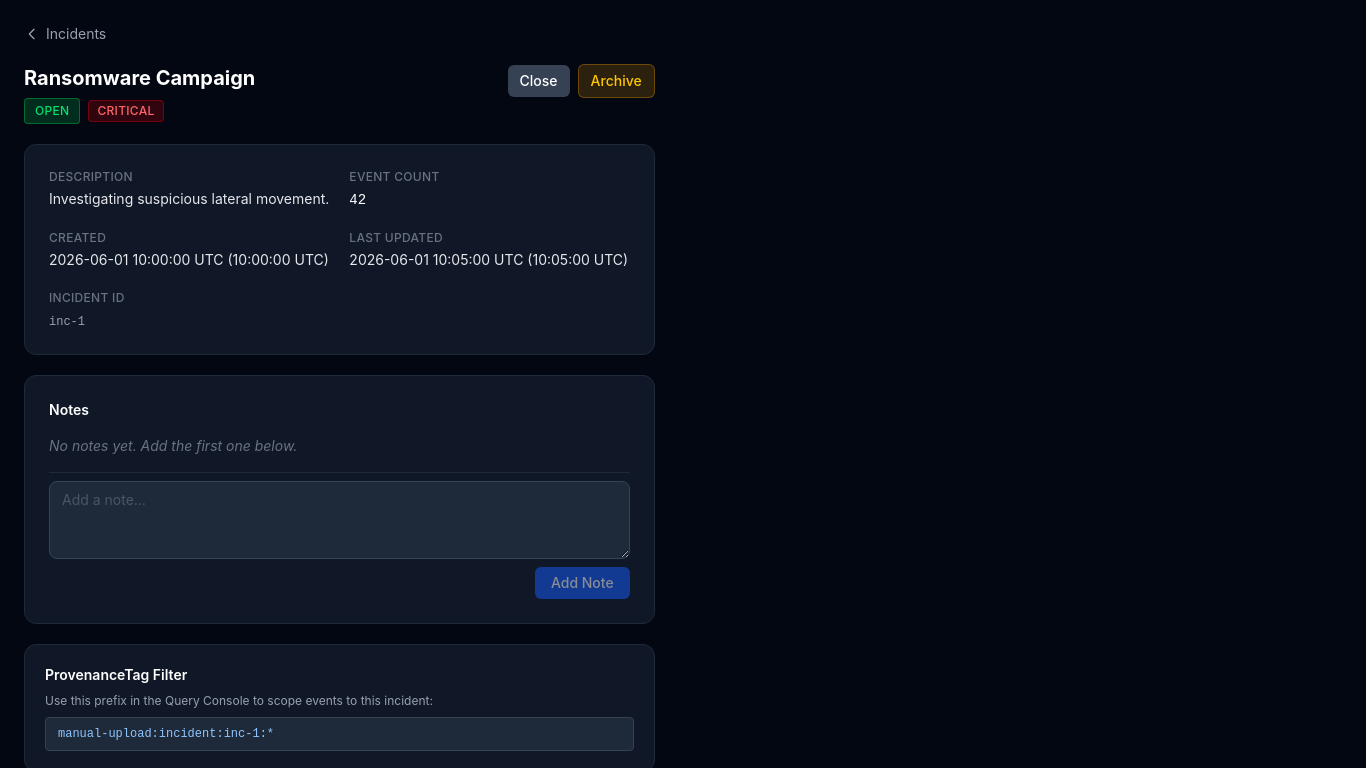
IncidentDetailPage — status confirmation + toast (FR #18) › dialog is dismissed after confirmation
Step 1. Click the button "Close" → (539, 81), box [508, 65, 570, 97]
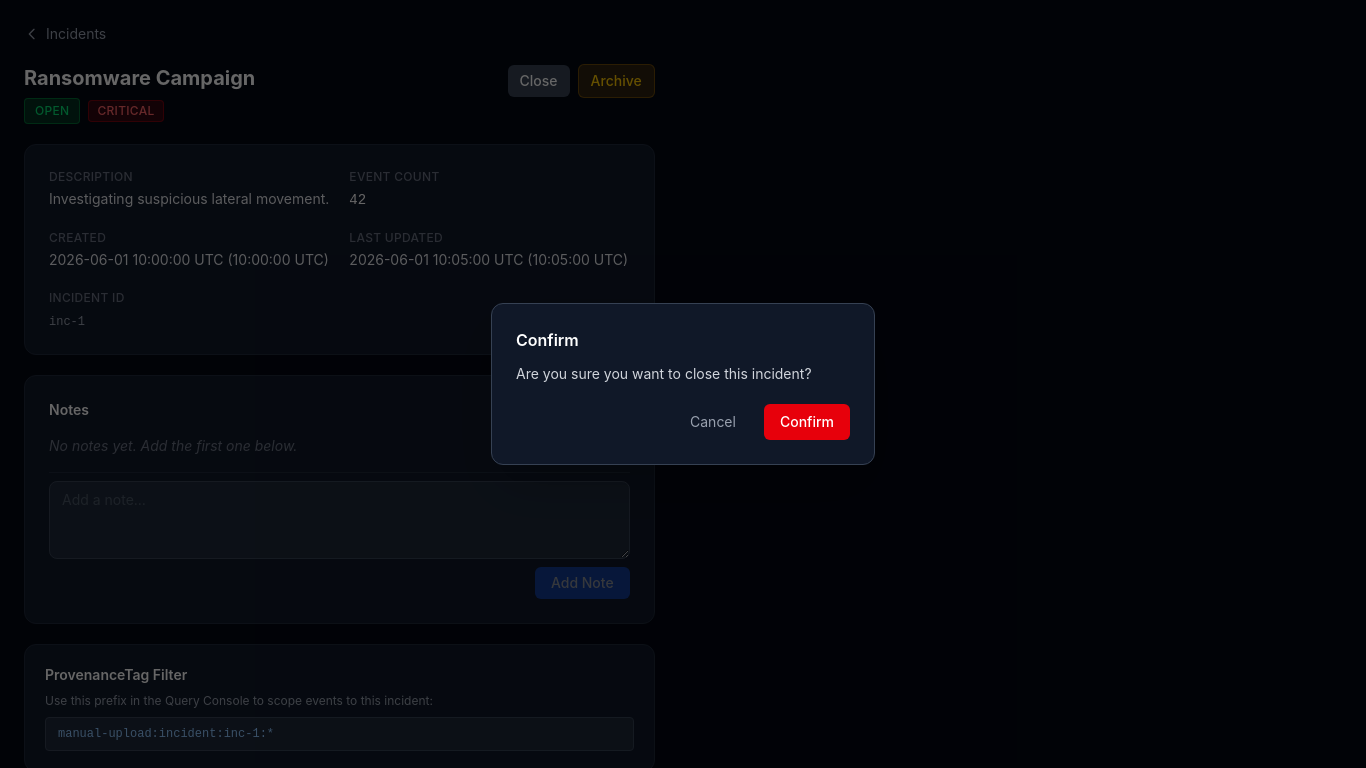
Step 2. Click the button "Confirm" → (807, 422), box [764, 404, 850, 440]
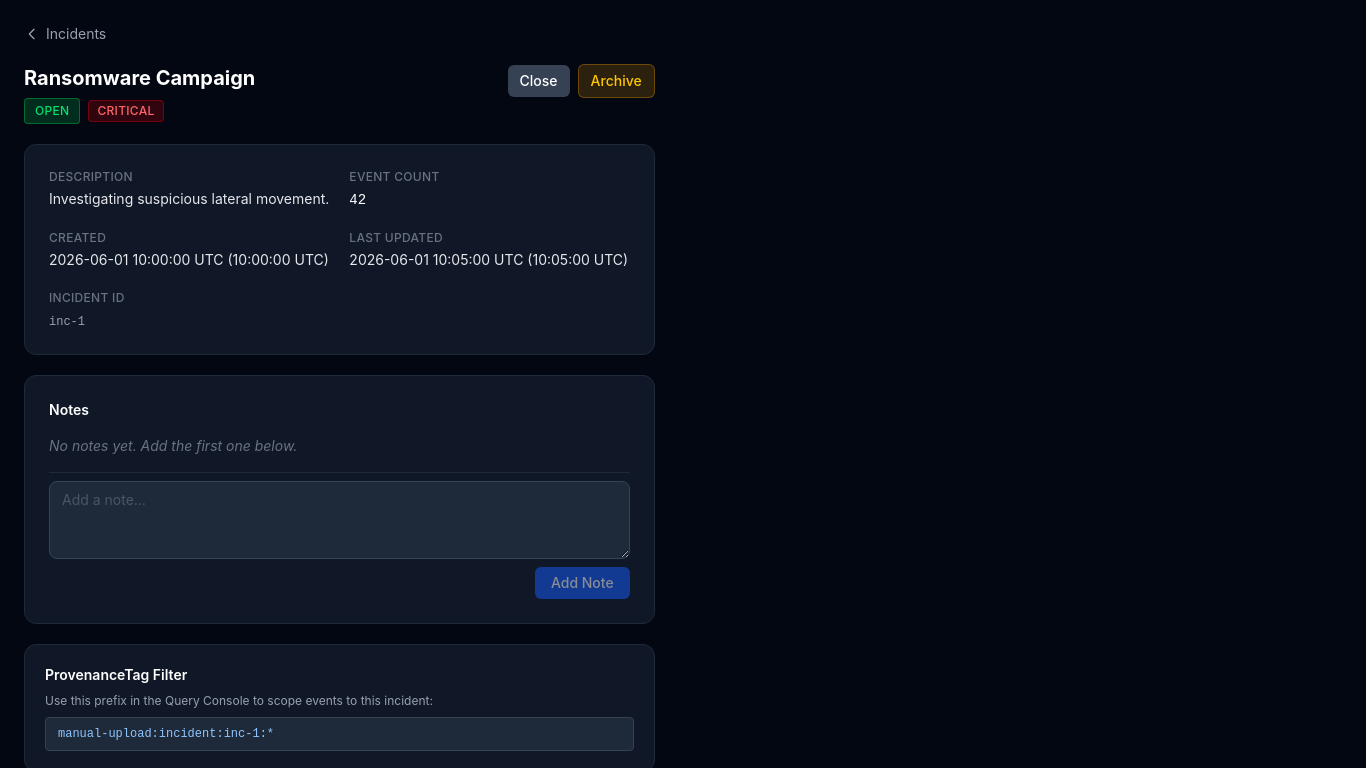
Result: the dialog is gone
